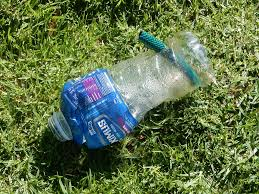plastic_bottle: (50, 32, 213, 146)
